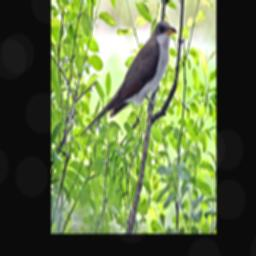Cuckoo: (80, 20, 178, 141)
